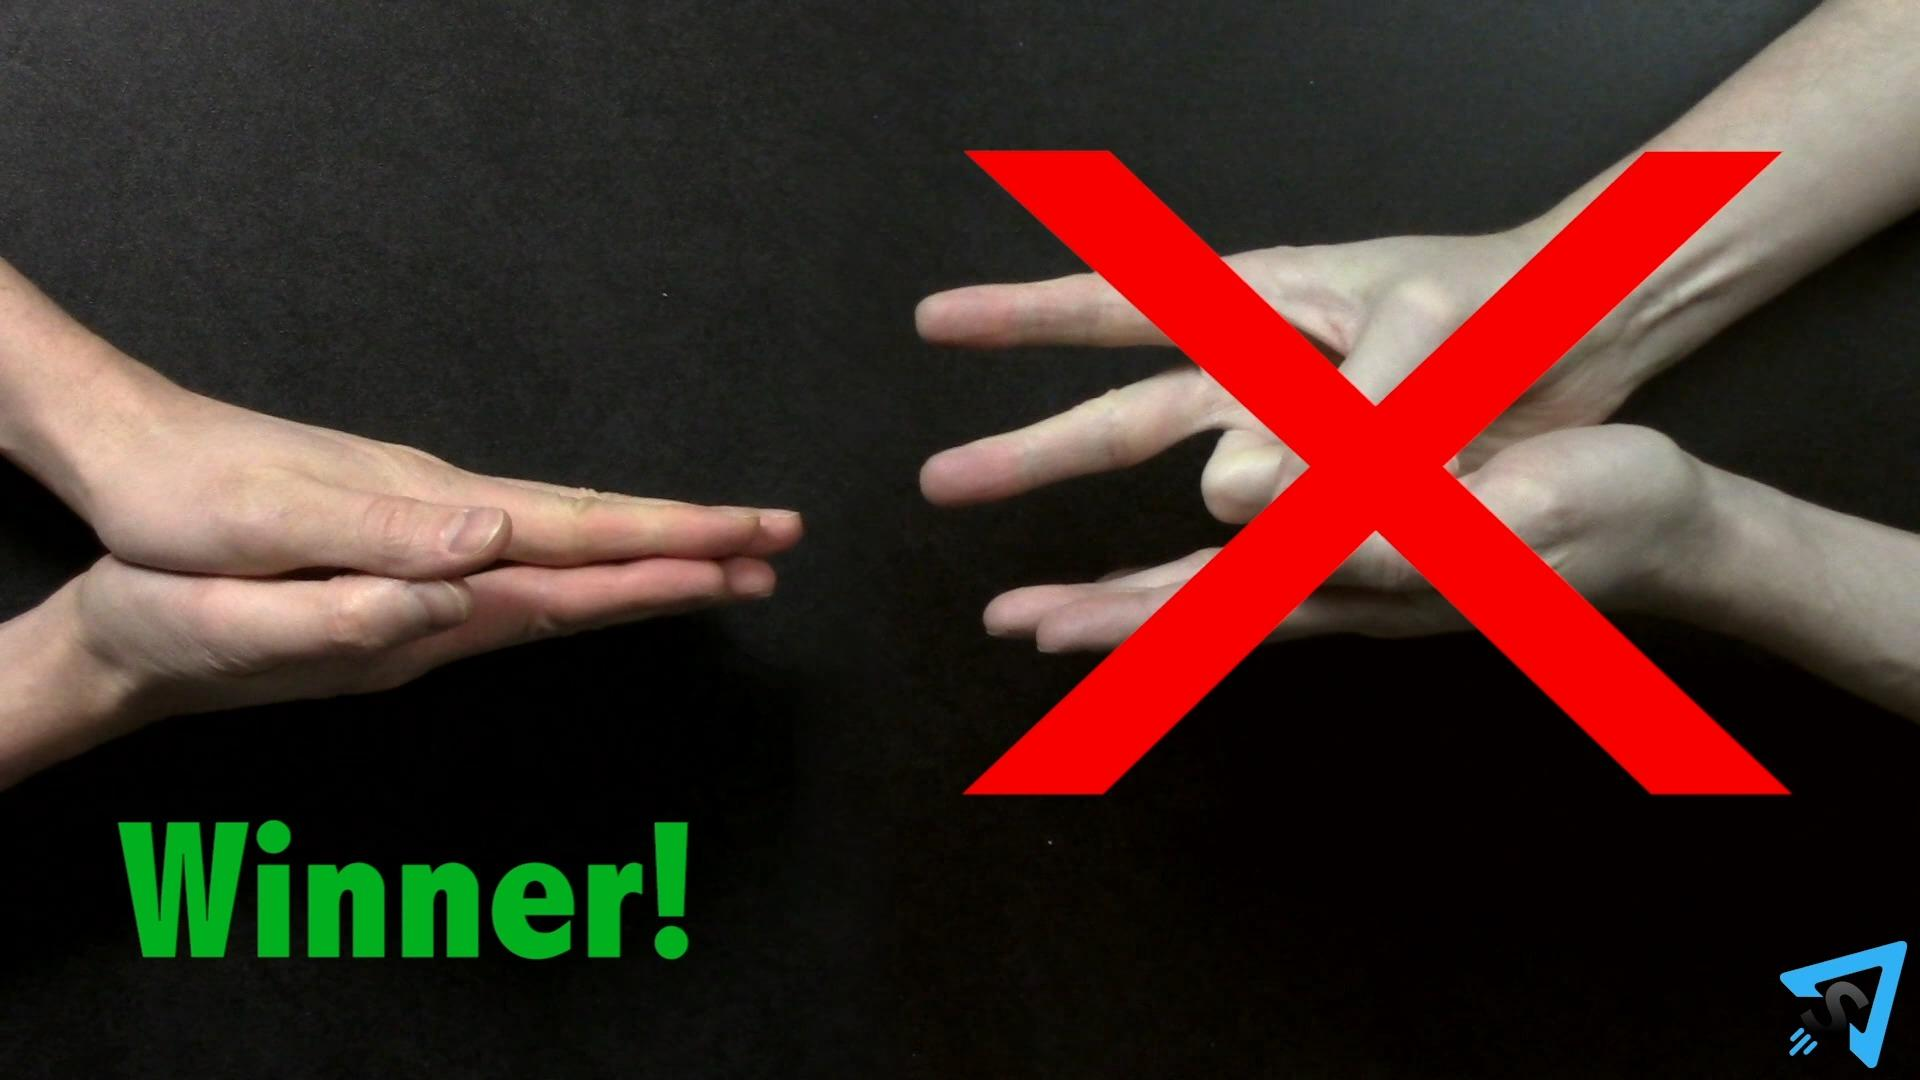Paper: (93, 398, 802, 571)
Scissors: (918, 227, 1647, 522)
